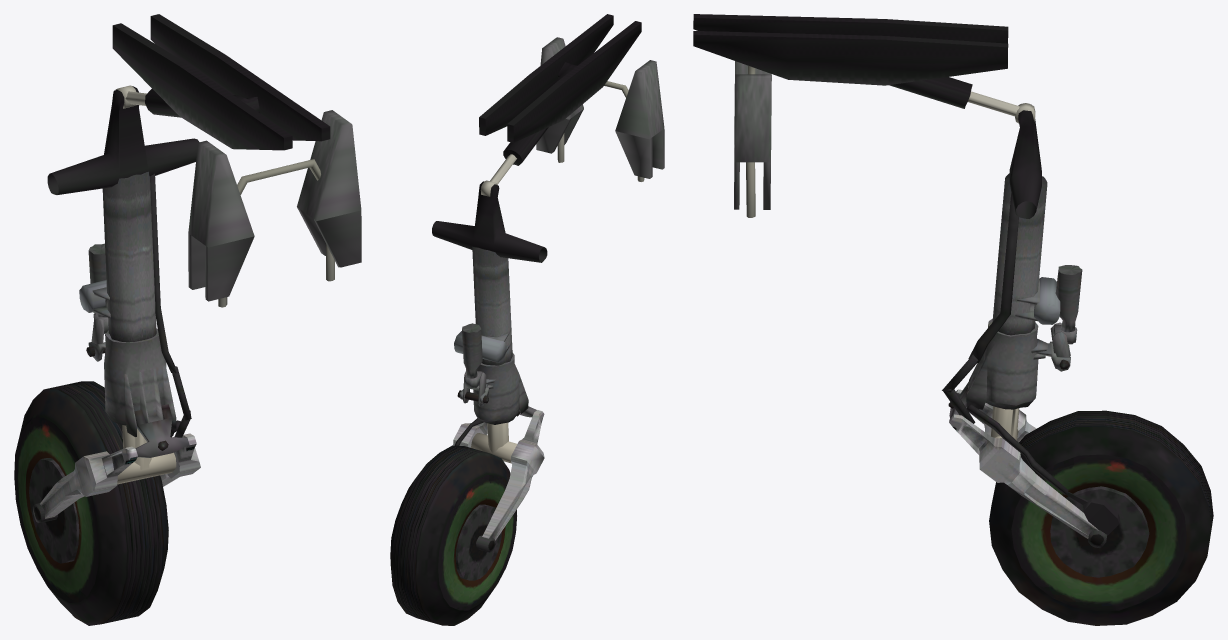
The model's file is mig21lgfront.fbx.
3 renders of one model, left to right at view 1: azimuth 30°, elevation 25°; view 2: azimuth 150°, elevation 25°; view 3: azimuth 270°, elevation 25°, orthographic. The views are drawn at different scales.
Visible parts, largest first — view 1: lgfront.001, lgfront, lgfrontwheel, lgfrontwheelrim, lgfrontcable, lg2.001, lg2; view 2: lgfrontwheel, lgfront, lgfront.001, lgfrontwheelrim, lg2, lg2.001; view 3: lgfrontwheel, lgfront.001, lgfront, lgfrontwheelrim, lgfrontcable, lg2.001.
Part boxes in pixels (x1,y1,x2,y2): lgfront.001: (112,14,361,301); lgfront: (40,86,200,518); lgfrontwheel: (14,381,168,625); lgfrontwheelrim: (29,459,76,563); lgfrontcable: (150,173,191,437); lg2.001: (115,85,334,307); lg2: (117,425,176,484); lgfrontwheel: (390,445,516,625); lgfront: (432,181,547,540); lgfront.001: (479,14,664,178); lgfrontwheelrim: (457,506,501,580); lg2: (471,422,517,463); lg2.001: (480,81,644,196); lgfrontwheel: (989,410,1213,625); lgfront.001: (693,14,1008,209); lgfront: (948,104,1120,538); lgfrontwheelrim: (1050,489,1148,577); lgfrontcable: (942,193,1068,494); lg2.001: (746,66,1035,217).
Bounding box in the file's own units: 34.58 × 139 × 111.
3 materials, 3 textured.
